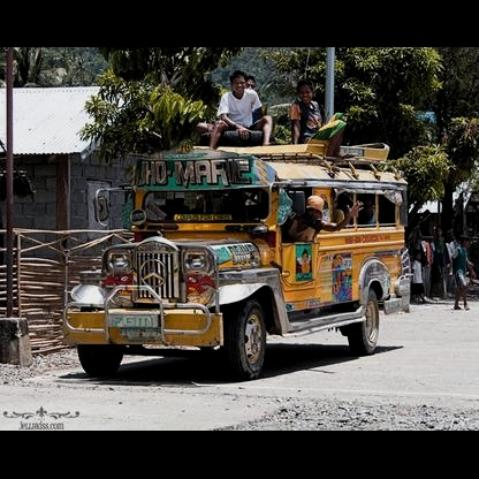jeepney: (48, 137, 416, 374)
